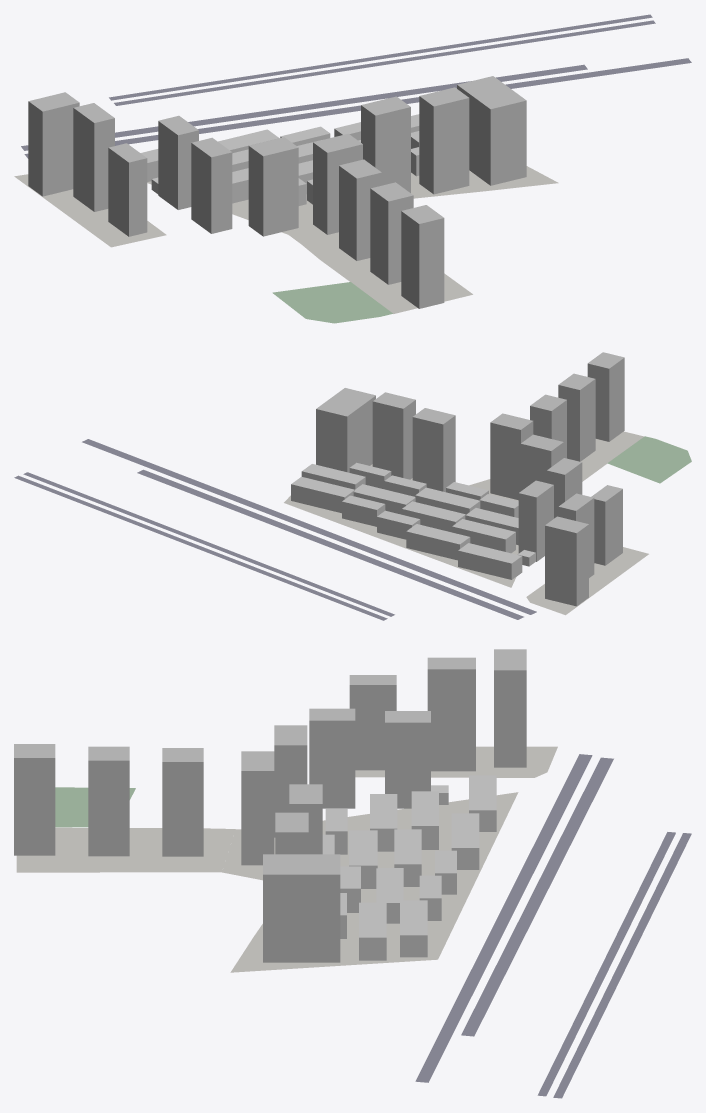
File: 136_103_mid.glb
3 renders of one model, top to bottom at view 1: azimuth 30°, elevation 25°; view 2: azimuth 150°, elevation 25°; view 3: azimuth 270°, elevation 25°, orthographic. The views are drawn at different scales.
Size of the model in its own units: 655 by 88.96 by 525.
